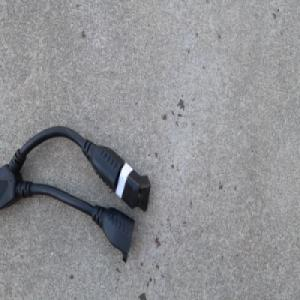Wire: (0, 123, 151, 263)
